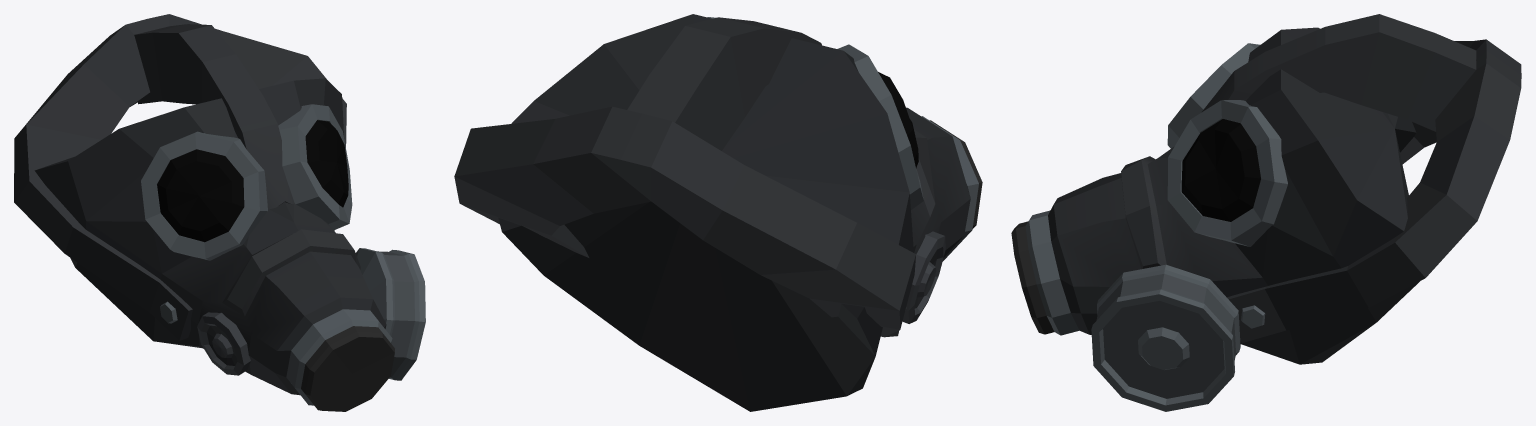
File: SM_Chr_Attach_Head_GasMask_Large_01.fbx
The picture shows the model from 3 angles, left to right: view 1: azimuth 30°, elevation 25°; view 2: azimuth 150°, elevation 25°; view 3: azimuth 270°, elevation 25°; orthographic projection. The views are drawn at different scales.
Parts seen in each view (by area): view 1: SM_Chr_Attach_Head_GasMask_Large_01; view 2: SM_Chr_Attach_Head_GasMask_Large_01; view 3: SM_Chr_Attach_Head_GasMask_Large_01.
Part boxes in pixels (x1,y1,x2,y2): SM_Chr_Attach_Head_GasMask_Large_01: (14,14,425,411); SM_Chr_Attach_Head_GasMask_Large_01: (454,14,982,411); SM_Chr_Attach_Head_GasMask_Large_01: (1011,14,1521,411).
Bounding box in the file's own units: 30.9 × 27.71 × 38.
